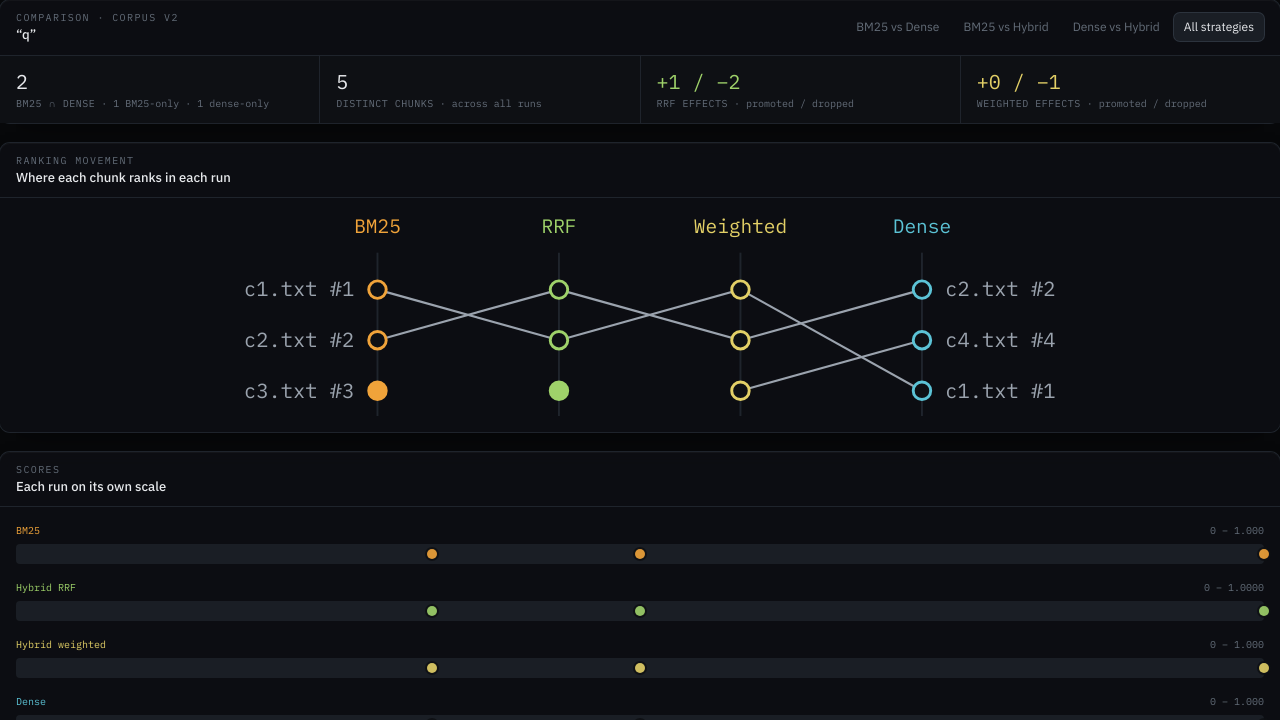
Test case: CompareView › shows all four runs, then a chosen pair
The width and height of the screenshot is (1280, 720).
Expected: the text "+1 / −2" is shown, [656,68,740,94]
Expected: the picture named "Rank comparison across BM25, Hybrid RRF, Hybrid weighted, Dense" is shown, [8,206,1272,424]
Click the tab "BM25 vs Dense": (898,27) [846,13,950,41]
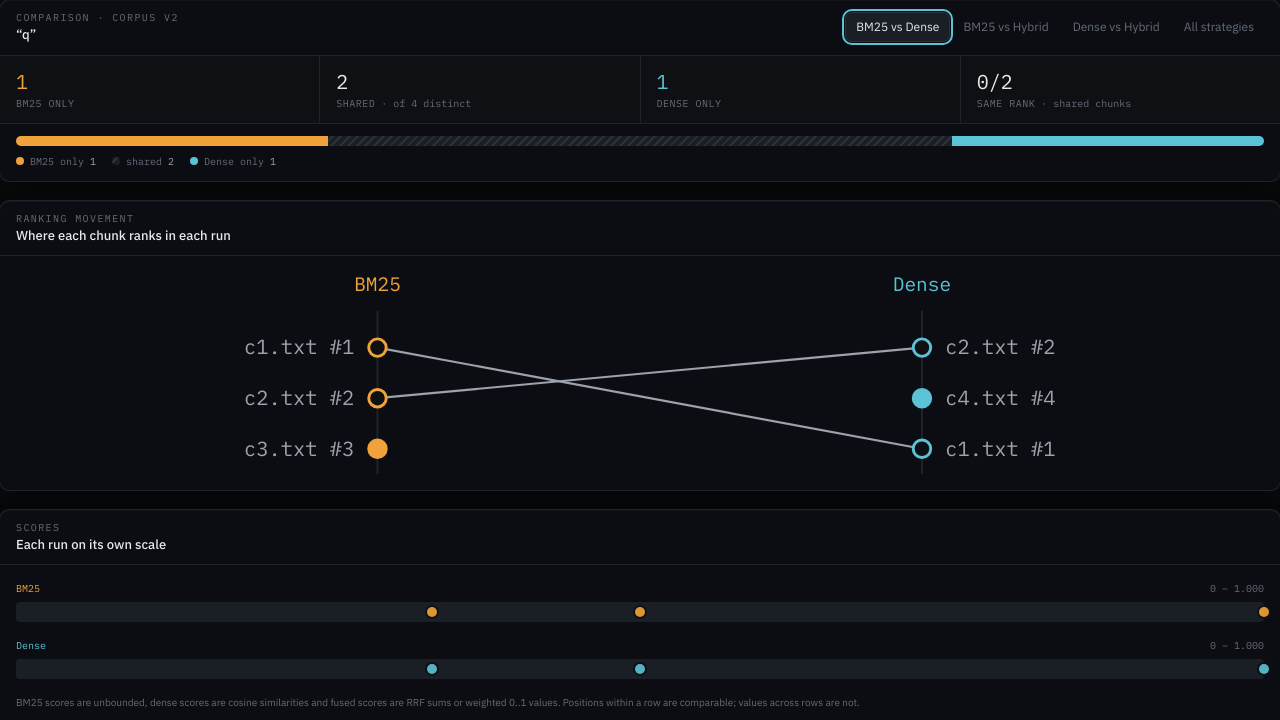
Expected: the picture named "1 BM25 only, 2 shared, 1 Dense only" is shown, [16,136,1264,146]
